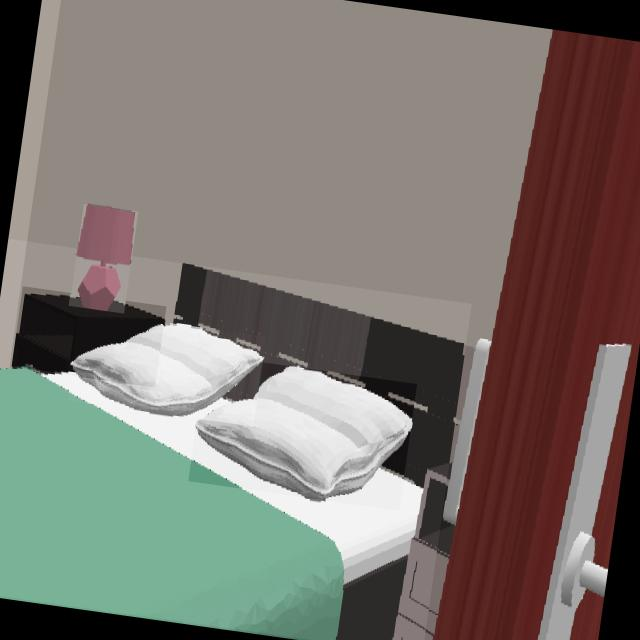bed: (0, 264, 462, 640)
lamp: (77, 205, 135, 311)
nighttable: (13, 296, 163, 374)
pillow: (197, 368, 411, 501), (73, 325, 263, 415)
